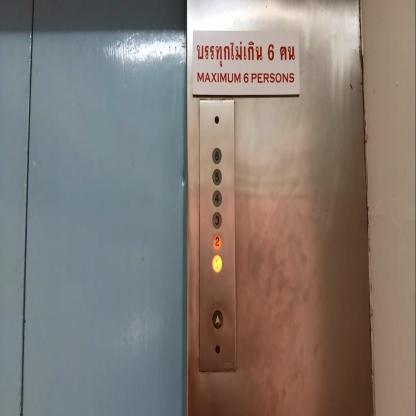1: (212, 254, 222, 272)
2: (212, 233, 222, 250)
3: (212, 211, 222, 229)
4: (212, 189, 221, 207)
5: (212, 168, 221, 185)
6: (212, 147, 221, 164)
up: (212, 310, 223, 329)
